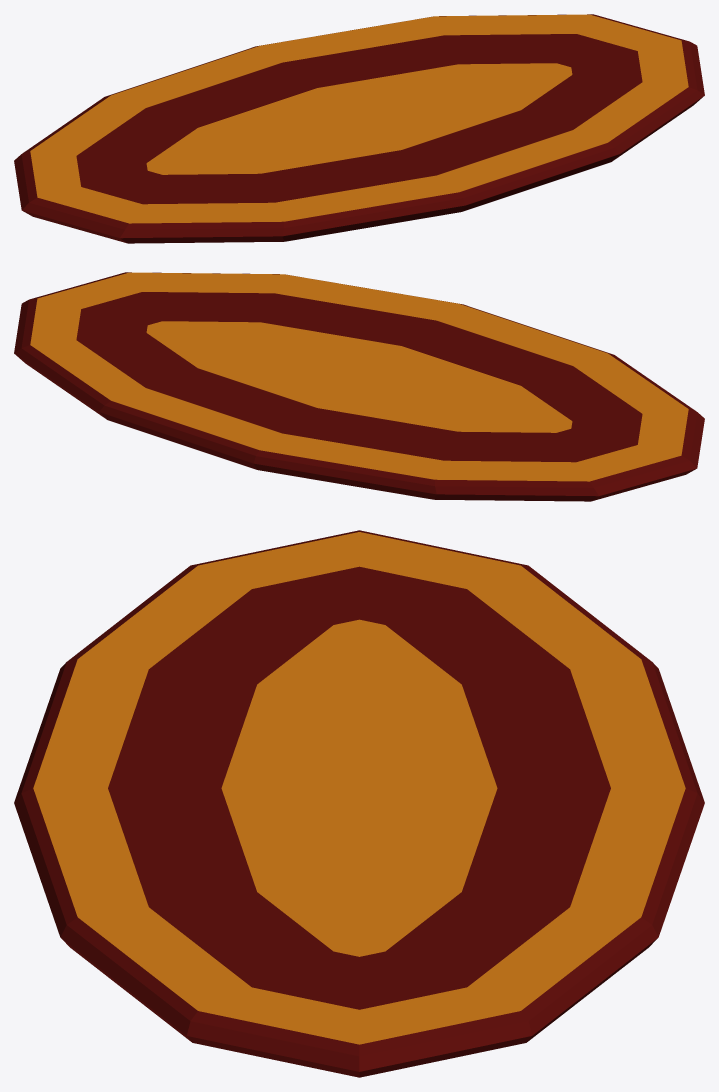
File: hh_rug.glb
The picture shows the model from 3 angles, top to bottom: view 1: azimuth 30°, elevation 25°; view 2: azimuth 150°, elevation 25°; view 3: azimuth 270°, elevation 25°; orthographic projection. The views are drawn at different scales.
Visible parts, largest first — view 1: Carpet_A; view 2: Carpet_A; view 3: Carpet_A.
Boxes of the visible parts, <box> form: Carpet_A: <box>14,14,704,243</box>; Carpet_A: <box>14,272,704,501</box>; Carpet_A: <box>14,530,704,1077</box>.
Bounding box in the file's own units: 2.35 × 0.0598 × 1.27.
